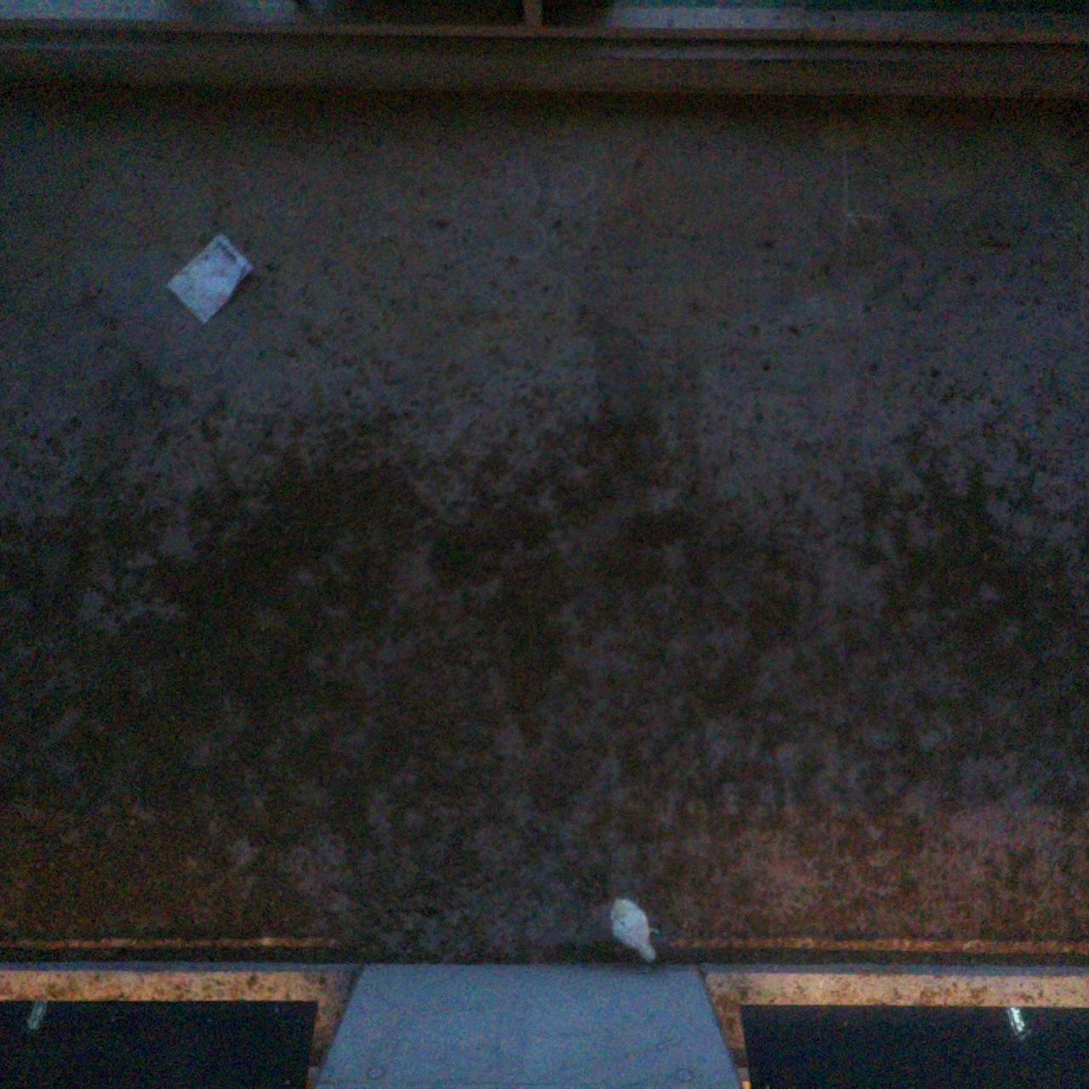chicken: (605, 894, 662, 967)
